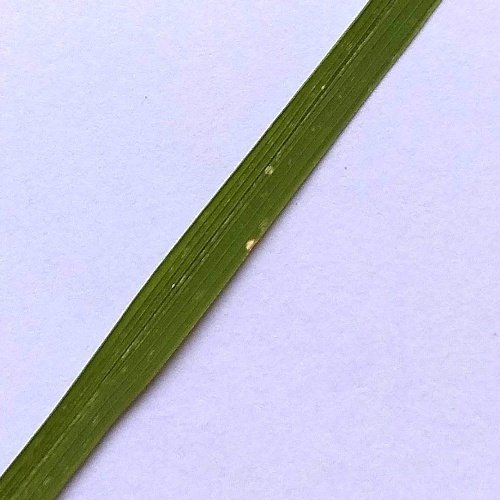Busuk Leher: (238, 230, 265, 257), (256, 156, 283, 183)
